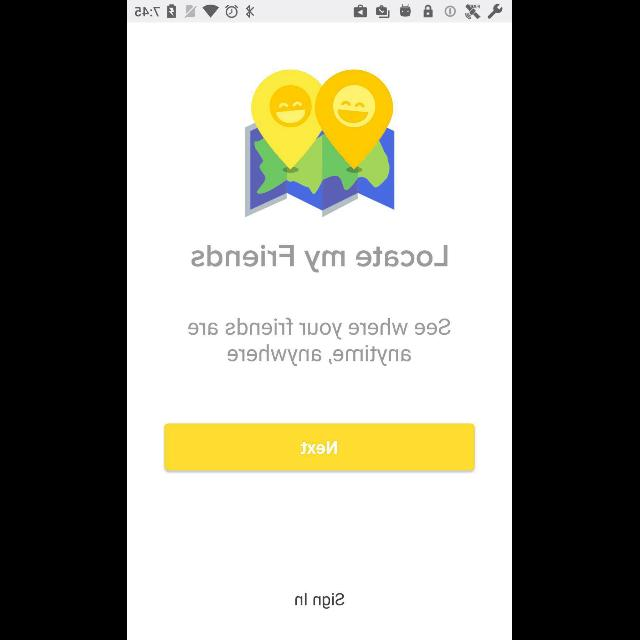image: (245, 70, 395, 218)
text: (188, 318, 452, 367), (192, 244, 448, 274), (296, 593, 344, 609)
textbutton: (164, 424, 476, 471)
uppertaskbar: (128, 1, 512, 23)
